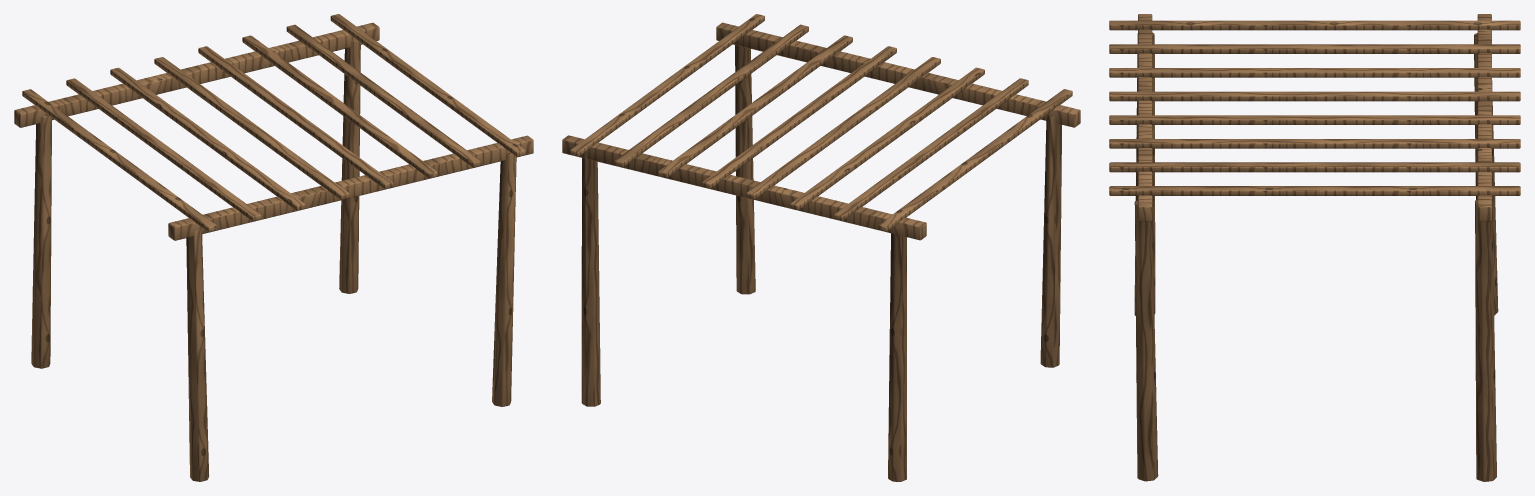
The model's file is p_pergola.glb.
3 renders of one model, left to right at view 1: azimuth 30°, elevation 25°; view 2: azimuth 150°, elevation 25°; view 3: azimuth 270°, elevation 25°, orthographic. The views are drawn at different scales.
Parts seen in each view (by area): view 1: pergola; view 2: pergola; view 3: pergola.
Boxes of the visible parts, x1,y1,x2,y2 form: pergola: [14, 14, 533, 481]; pergola: [562, 14, 1080, 481]; pergola: [1109, 14, 1520, 481].
Bounding box in the file's own units: 3.5 × 2.46 × 3.15.
1 material, 1 textured.
